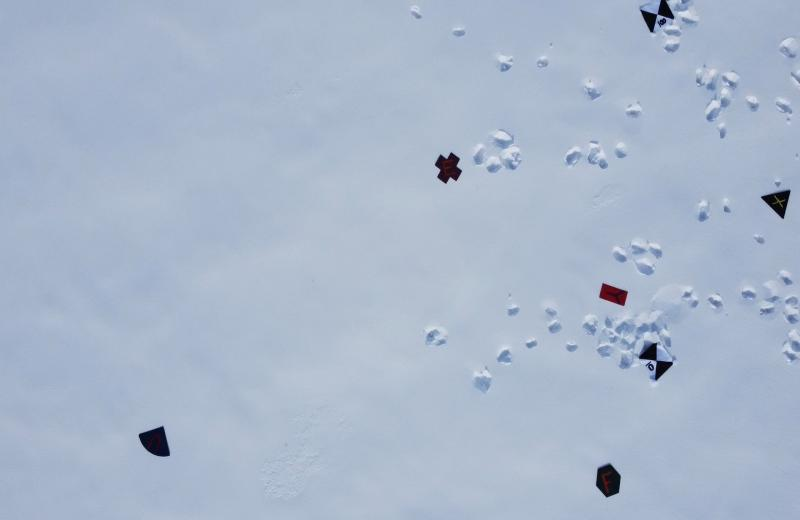Cross: (427, 142, 469, 199)
Hexagon: (588, 458, 630, 513)
Quarter Circle: (134, 414, 176, 462)
Rectangle: (585, 270, 638, 313)
Triangle: (754, 176, 794, 225)
